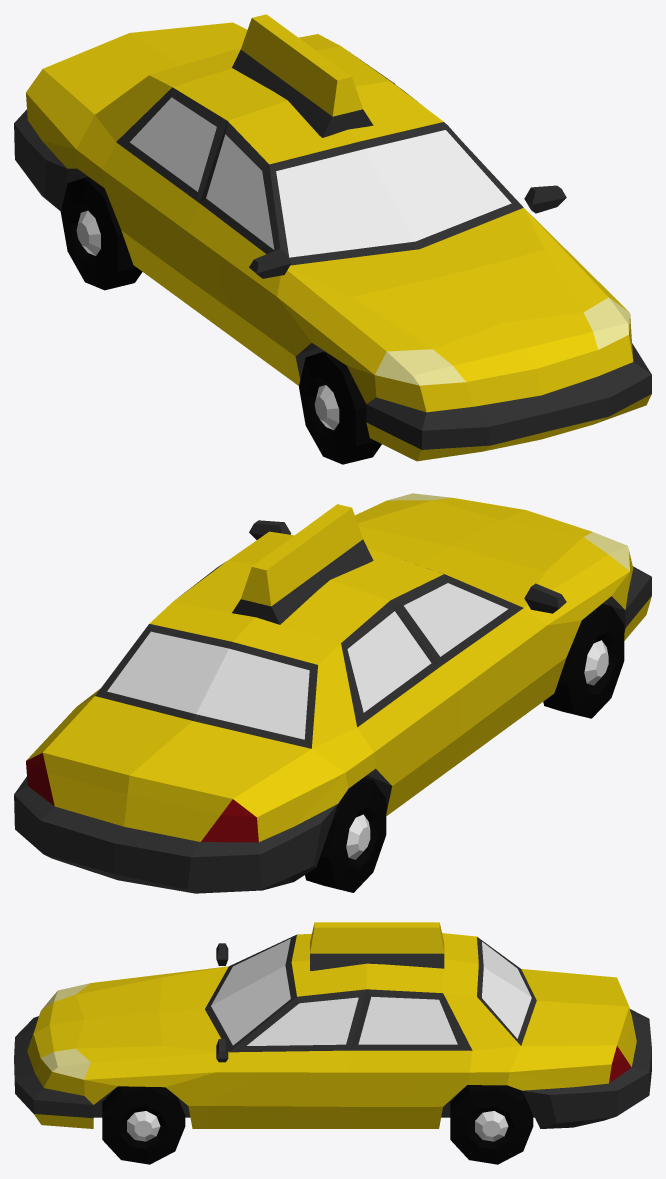
Rendered from Taxi.fbx.
The picture shows the model from 3 angles, top to bottom: view 1: azimuth 30°, elevation 25°; view 2: azimuth 150°, elevation 25°; view 3: azimuth 270°, elevation 25°; orthographic projection. The views are drawn at different scales.
Parts seen in each view (by area): view 1: car-taxi-base, car-taxi-wheel_FR, car-taxi-wheel_BR; view 2: car-taxi-base, car-taxi-wheel_BR, car-taxi-wheel_FR; view 3: car-taxi-base, car-taxi-wheel_BL, car-taxi-wheel_FL.
Boxes of the visible parts, x1,y1,x2,y2 form: car-taxi-base: [14, 14, 651, 461]; car-taxi-wheel_FR: [299, 351, 381, 464]; car-taxi-wheel_BR: [60, 177, 142, 290]; car-taxi-base: [14, 493, 651, 893]; car-taxi-wheel_BR: [305, 778, 386, 892]; car-taxi-wheel_FR: [543, 604, 624, 718]; car-taxi-base: [14, 922, 651, 1128]; car-taxi-wheel_BL: [450, 1085, 533, 1164]; car-taxi-wheel_FL: [102, 1086, 185, 1164].
Bounding box in the file's own units: 2.19 × 1.77 × 5.35.
